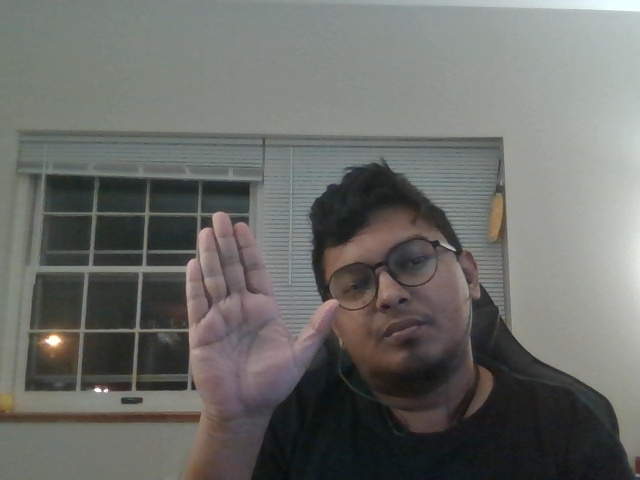hello: (161, 212, 344, 425)
